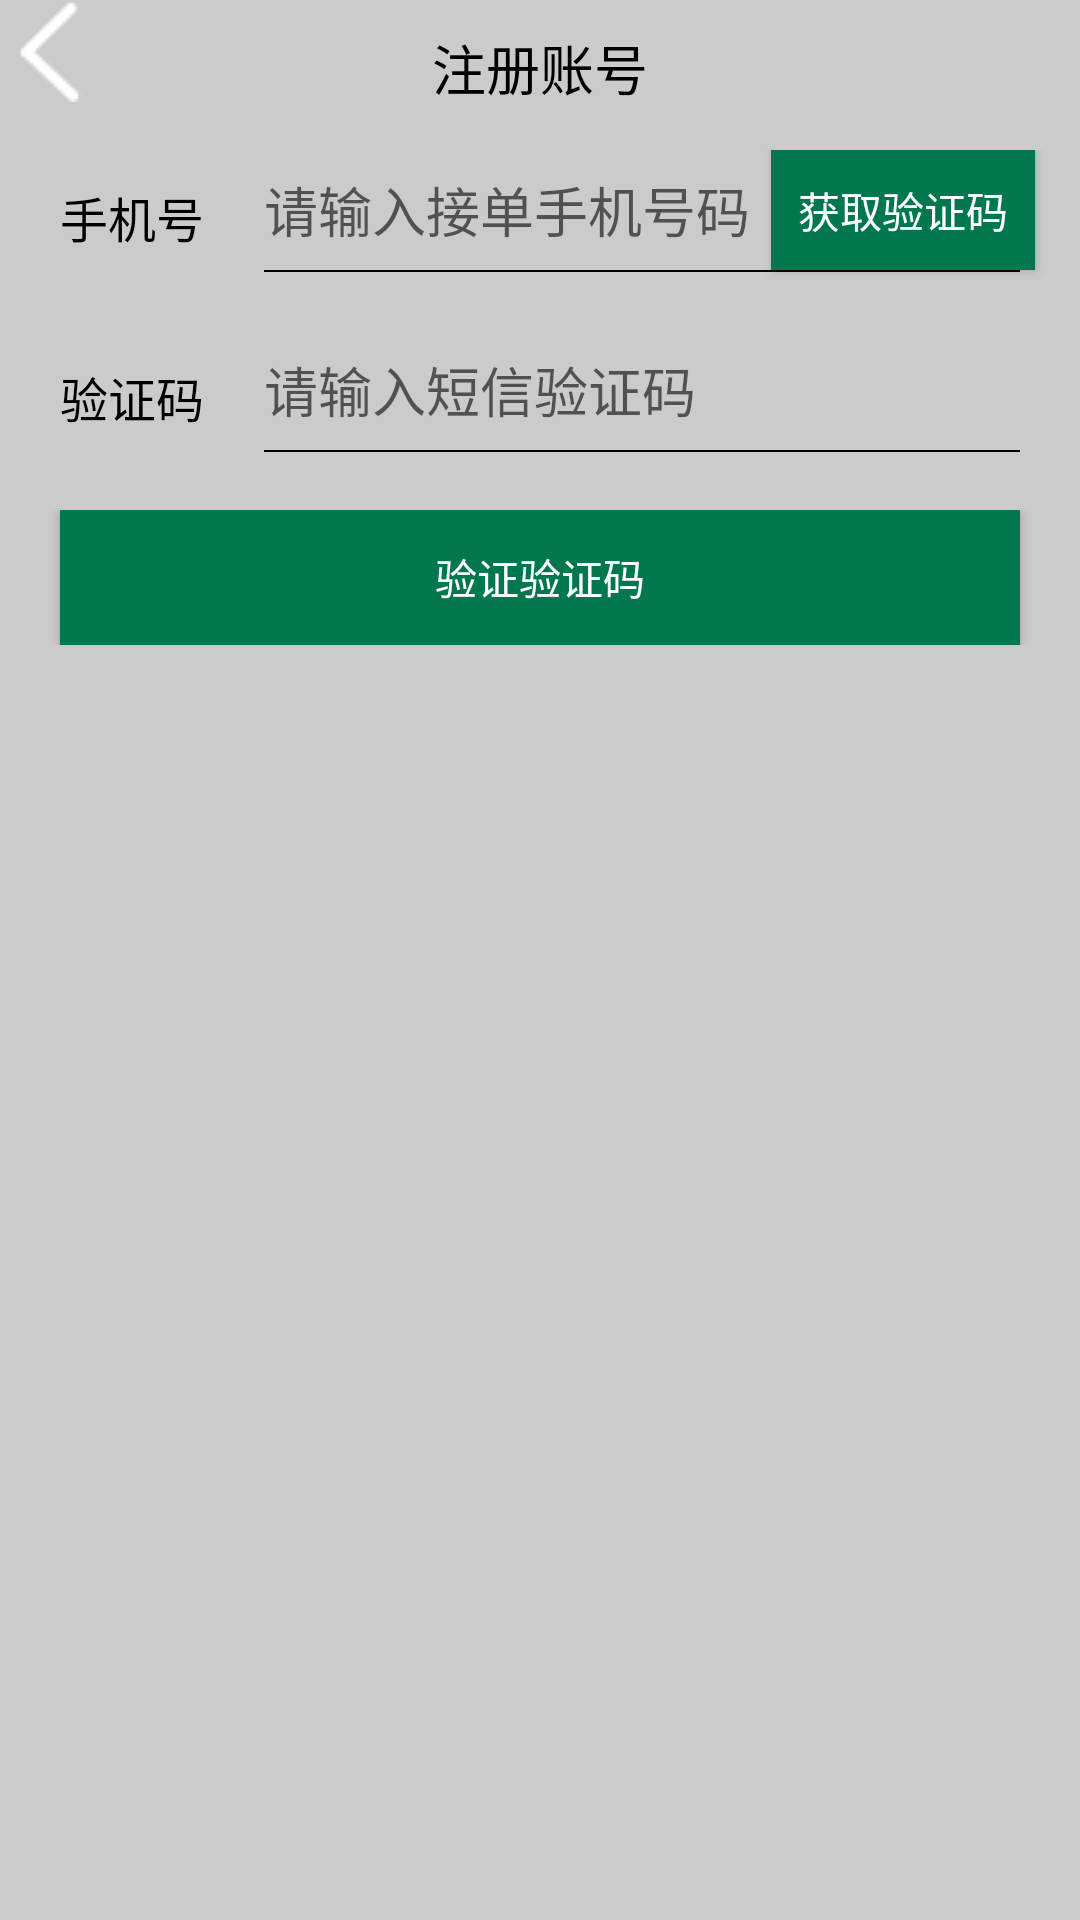

Locate icon controls on the screen. Image size 1080*1920, boxes as bbox=(x1, y1, x2, y2).
back: bbox=(21, 3, 78, 102)
